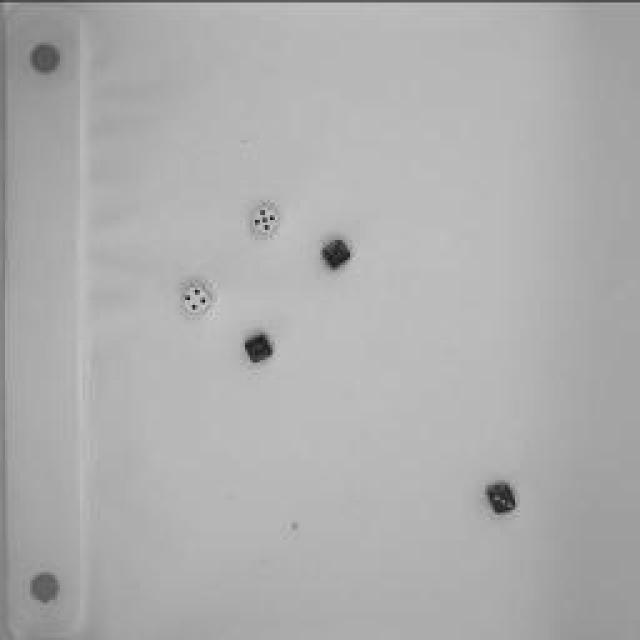dice_1: (242, 331, 276, 361)
dice_3: (316, 236, 362, 269), (484, 479, 516, 516)
dice_4: (178, 283, 212, 315)
dice_5: (244, 194, 278, 236)
